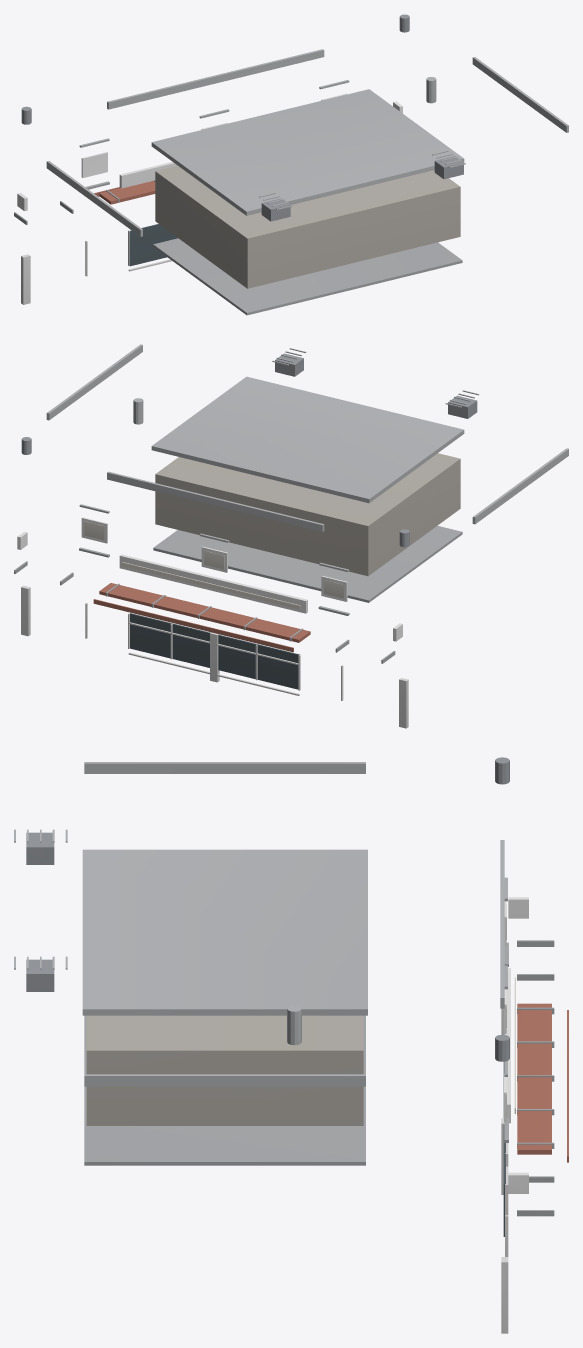
Rendered from shop-low.fbx.
The picture shows the model from 3 angles, top to bottom: view 1: azimuth 30°, elevation 25°; view 2: azimuth 150°, elevation 25°; view 3: azimuth 270°, elevation 25°; orthographic projection. The views are drawn at different scales.
Parts seen in each view (by area): view 1: Building; view 2: Building, WinGlow; view 3: Building.
Boxes of the visible parts, box(x1,y1,x2,y2) form: Building: box(14, 14, 568, 315); Building: box(14, 344, 568, 728); WinGlow: box(84, 521, 343, 598); Building: box(14, 757, 568, 1333).
Size of the model in its own units: 1609 by 700 by 1201.
